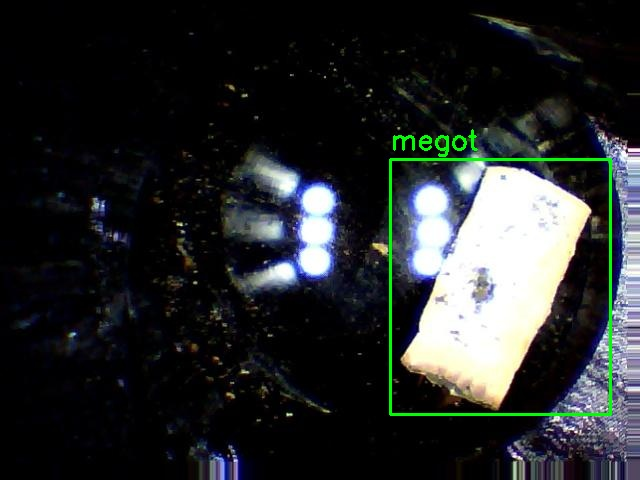megot: (390, 159, 610, 414)
